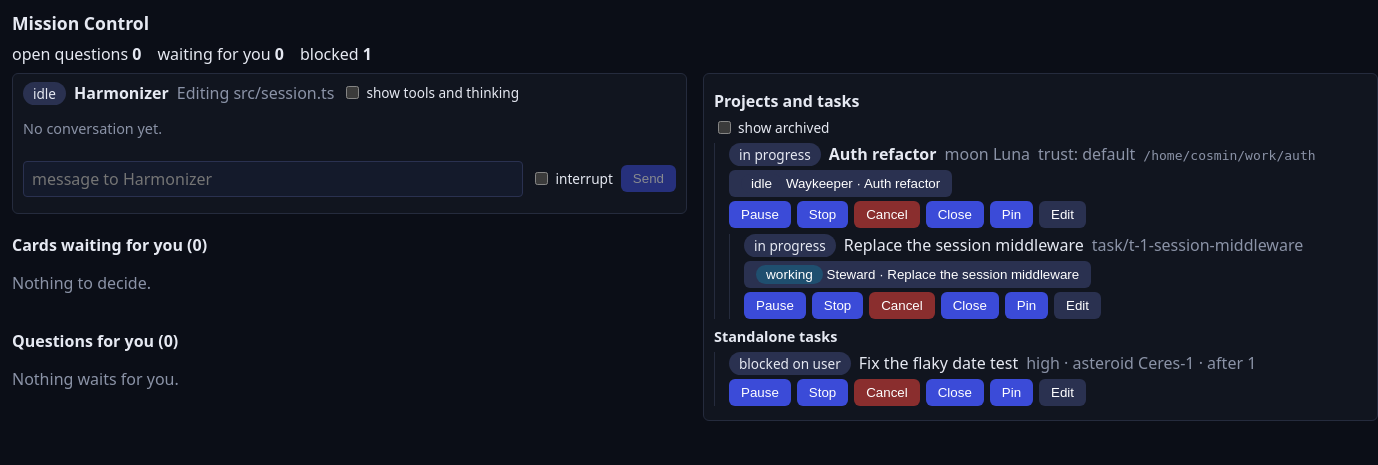
Test: project/task tree (P2-18) › shows a refused control action under its buttons
What coordinates should you click on to do the following:
click the 1st button "Close"
I would click on:
 (955, 214)
Its box is [926,201,984,228].
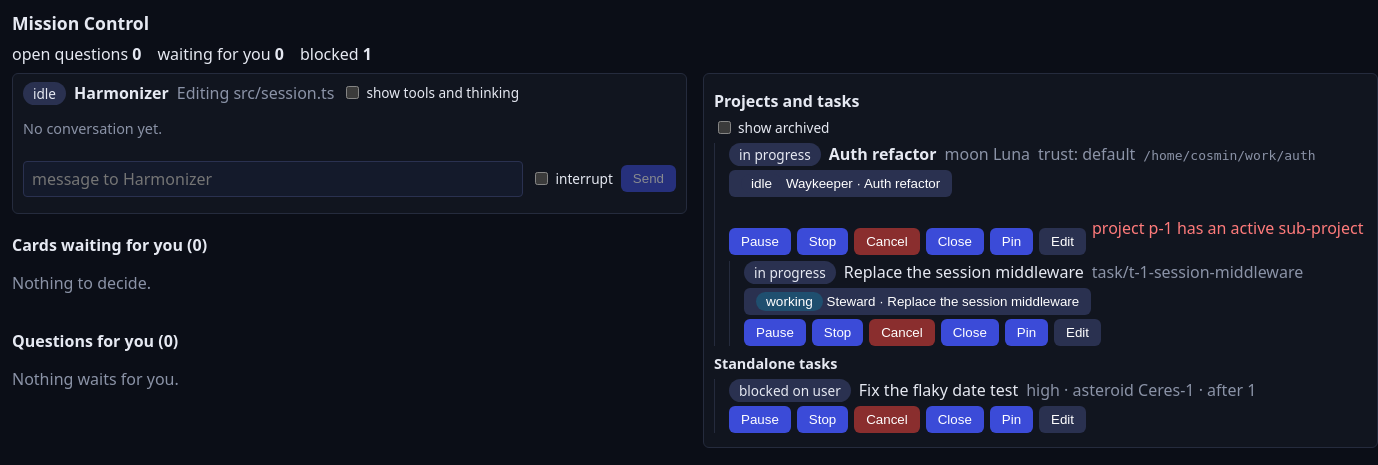
Check: the message shows "active sub-project", box [1092,217,1363,239]
